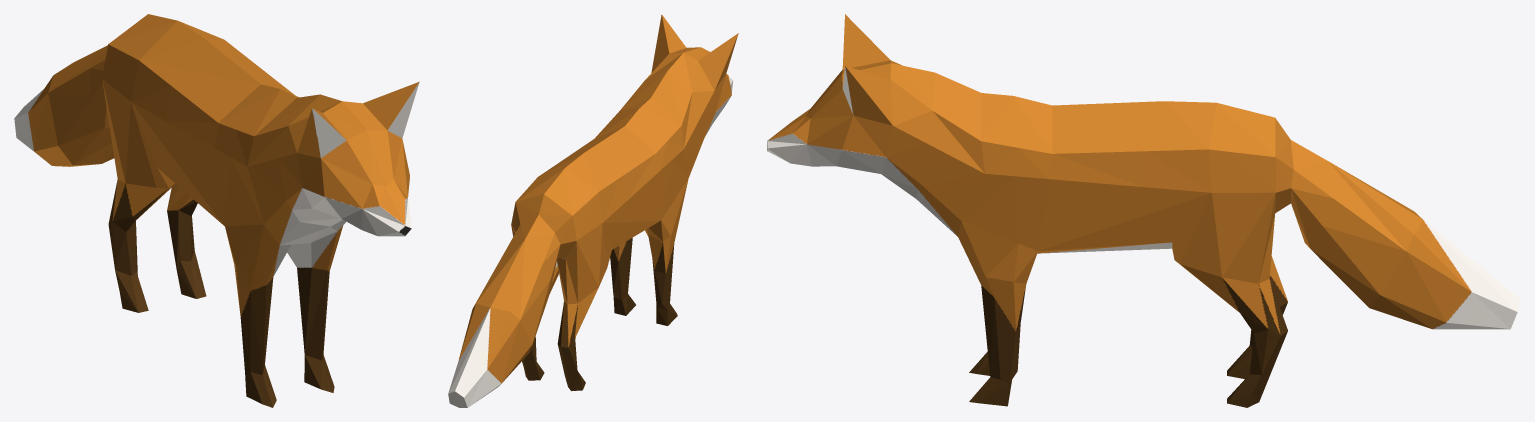
File: foxs.glb
3 renders of one model, left to right at view 1: azimuth 30°, elevation 25°; view 2: azimuth 150°, elevation 25°; view 3: azimuth 270°, elevation 25°, orthographic. The views are drawn at different scales.
Parts seen in each view (by area): view 1: fox1; view 2: fox1; view 3: fox1.
Boxes of the visible parts, x1,y1,x2,y2 form: fox1: (14,14,419,407); fox1: (448,14,738,407); fox1: (767,14,1520,407).
Bounding box in the file's own units: 1.26 × 3.95 × 7.74.
Materials: 1 (1 with a texture image).
